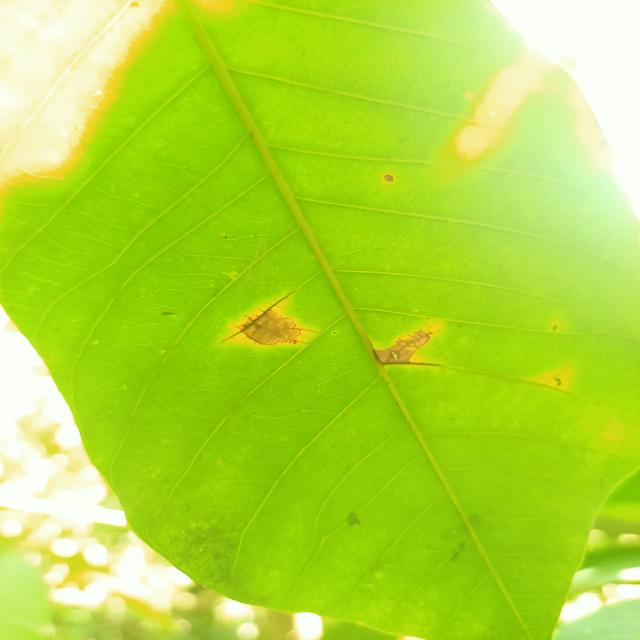Colletotrichum: (384, 174, 394, 182)
Corynespora: (222, 290, 294, 344), (371, 329, 443, 366)
